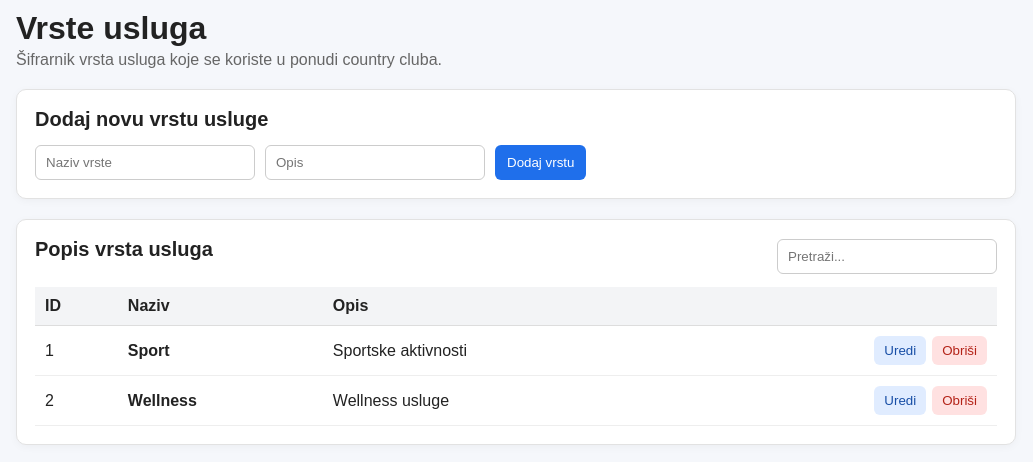
it: VrsteUslugaView › filtrira vrste usluga prema unosu u pretragu
Type "sport" into the field with class "search-input" at x=887, y=257, box [777,239,997,274]
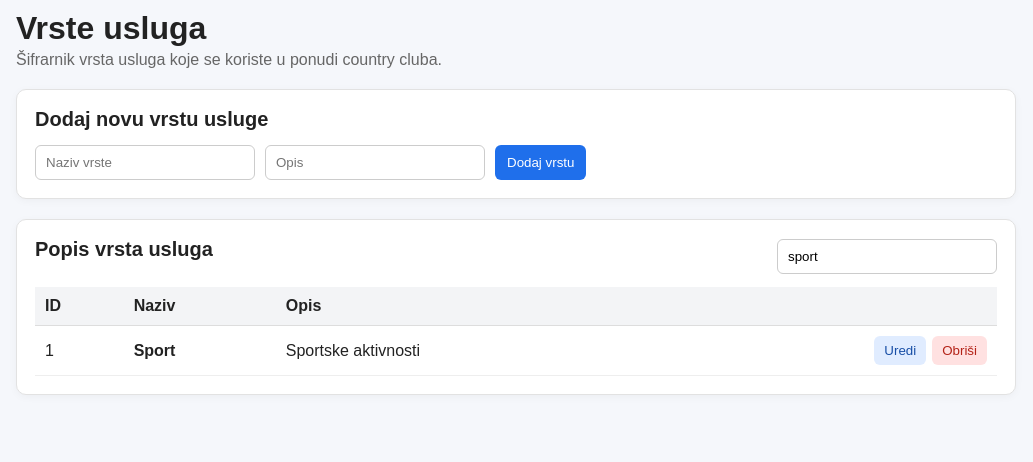
Expected: the text "Sport" is shown, [124,326,276,376]
Expected: the text "Wellness" is gone
